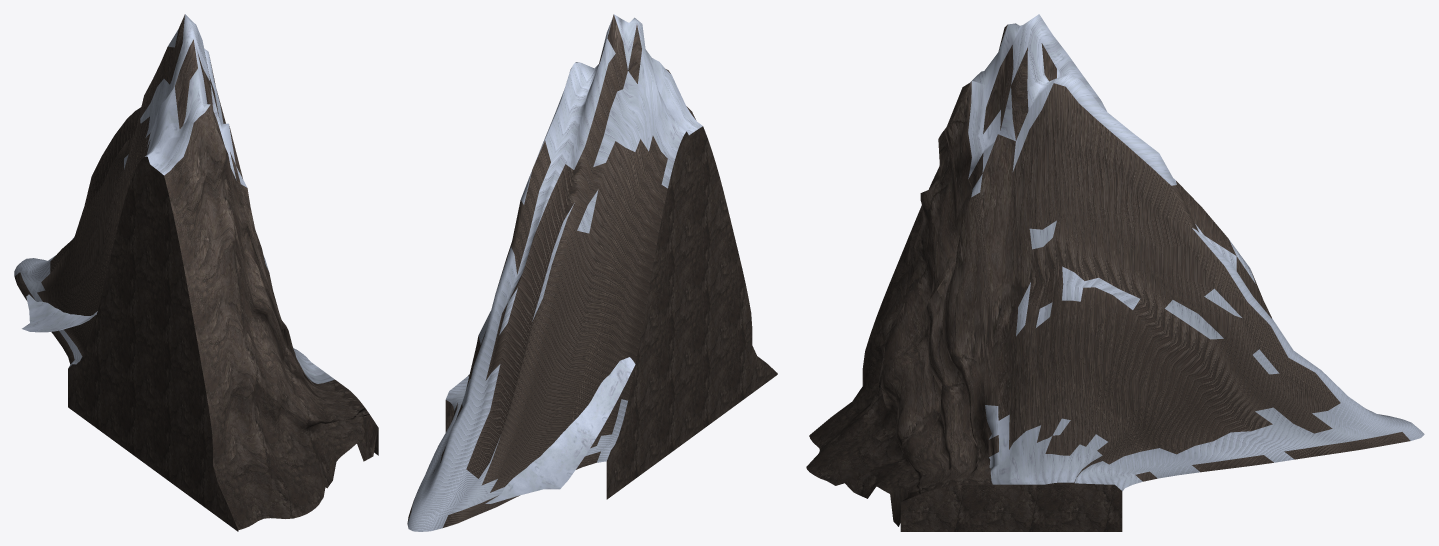
File: seacliff_endcap_right_h8_a_v5_winter.glb
3 renders of one model, left to right at view 1: azimuth 30°, elevation 25°; view 2: azimuth 150°, elevation 25°; view 3: azimuth 270°, elevation 25°, orthographic. The views are drawn at different scales.
Visible parts, largest first — view 1: seacliff_endcap_right_h8_a; view 2: seacliff_endcap_right_h8_a; view 3: seacliff_endcap_right_h8_a.
Part boxes in pixels (x1=…): seacliff_endcap_right_h8_a: x1=14, y1=14, x2=378, y2=531; seacliff_endcap_right_h8_a: x1=407, y1=14, x2=777, y2=531; seacliff_endcap_right_h8_a: x1=806, y1=14, x2=1424, y2=531.
Bounding box in the file's own units: 6 × 13.31 × 16.52.
Materials: 2 (2 with a texture image).
